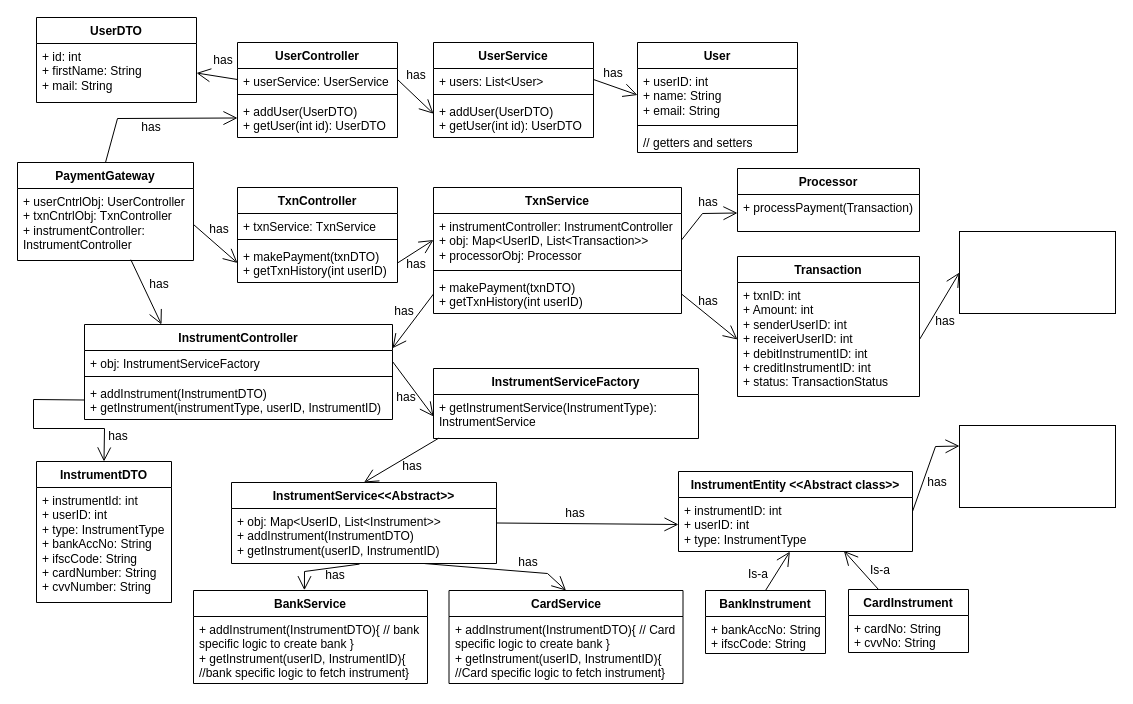
This 1133x704 diagram has some shape labels left out. Each missing label, with the centre of its shape:
enum InstrumentType{ BANK, CARD }: the point at 1037,466
enum TransactionStatus{ SUCCESS, PENDING, FAILED }: the point at 1037,272
